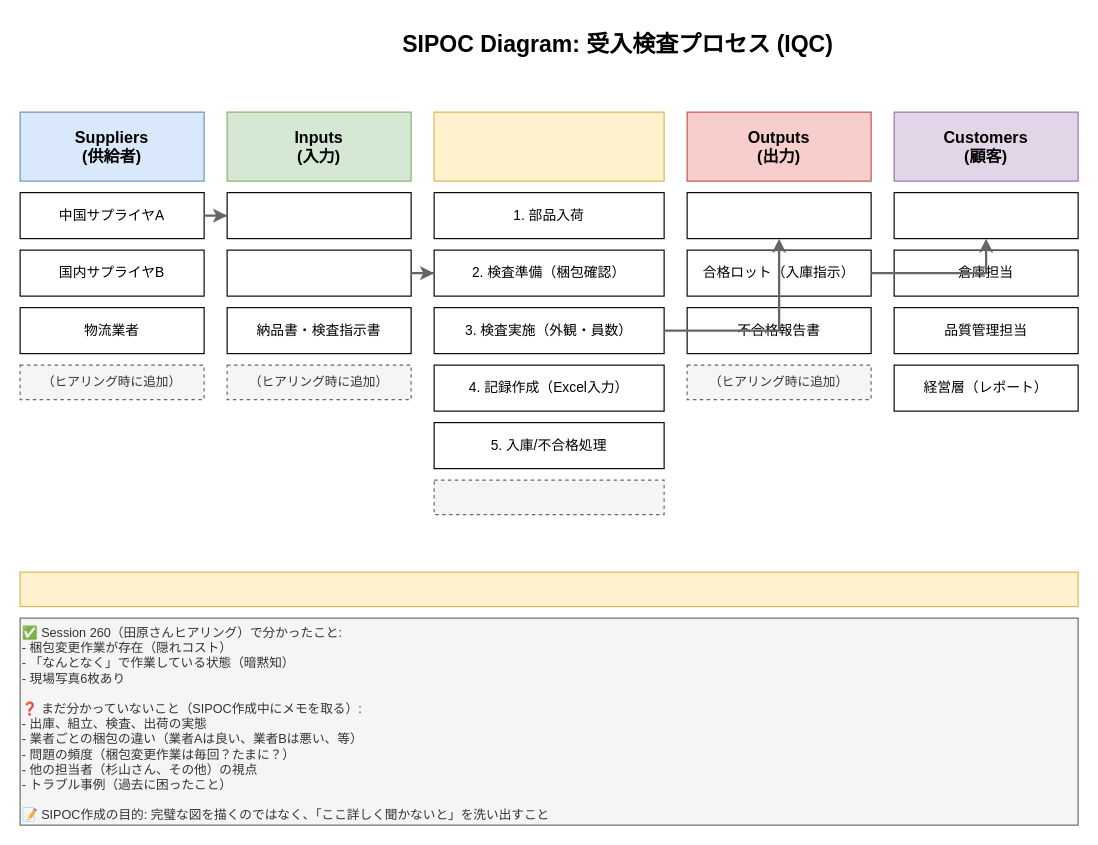
This 1098x845 diagram has some shape labels left out. The shapes that lost their labels are listed below. From the top down, each one's centre as x and y in pixels, then its label:
pixel 548 146: Process (プロセス)
pixel 318 215: 部品（電子部品等）
pixel 778 215: 検査記録（Excel）
pixel 985 215: 組立担当
pixel 318 272: 梱包材
pixel 548 497: （ヒアリング時に修正・詳細化）
pixel 548 589: 【ワークショップでの確認ポイント】
